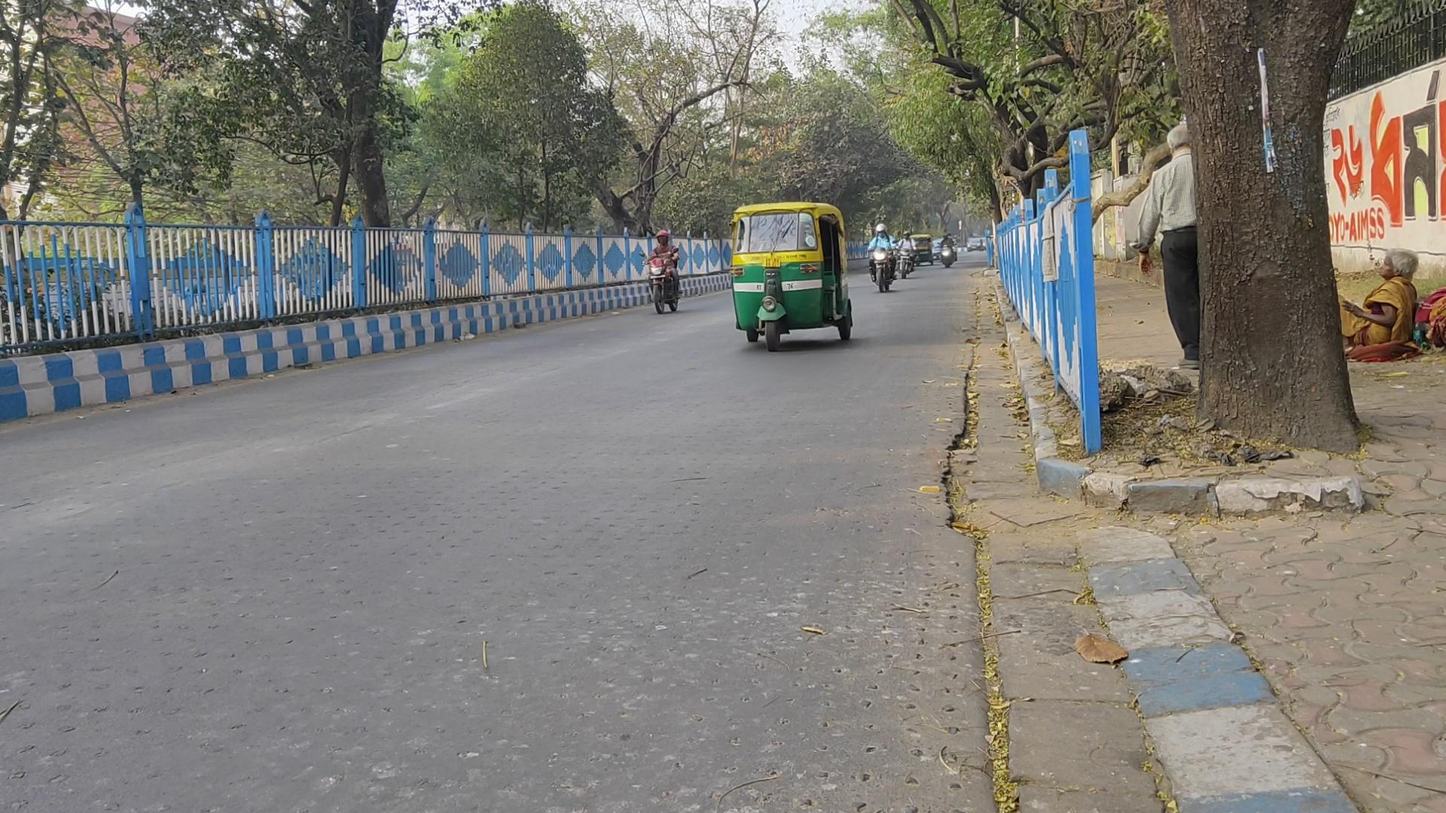Auto: (729, 199, 854, 353), (910, 233, 935, 268)
bike: (646, 230, 684, 315), (865, 222, 895, 293), (894, 230, 918, 280), (938, 233, 959, 269)
car: (966, 237, 984, 253)
